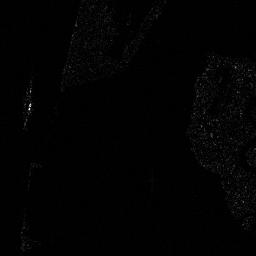ship: (19, 87, 35, 127)
